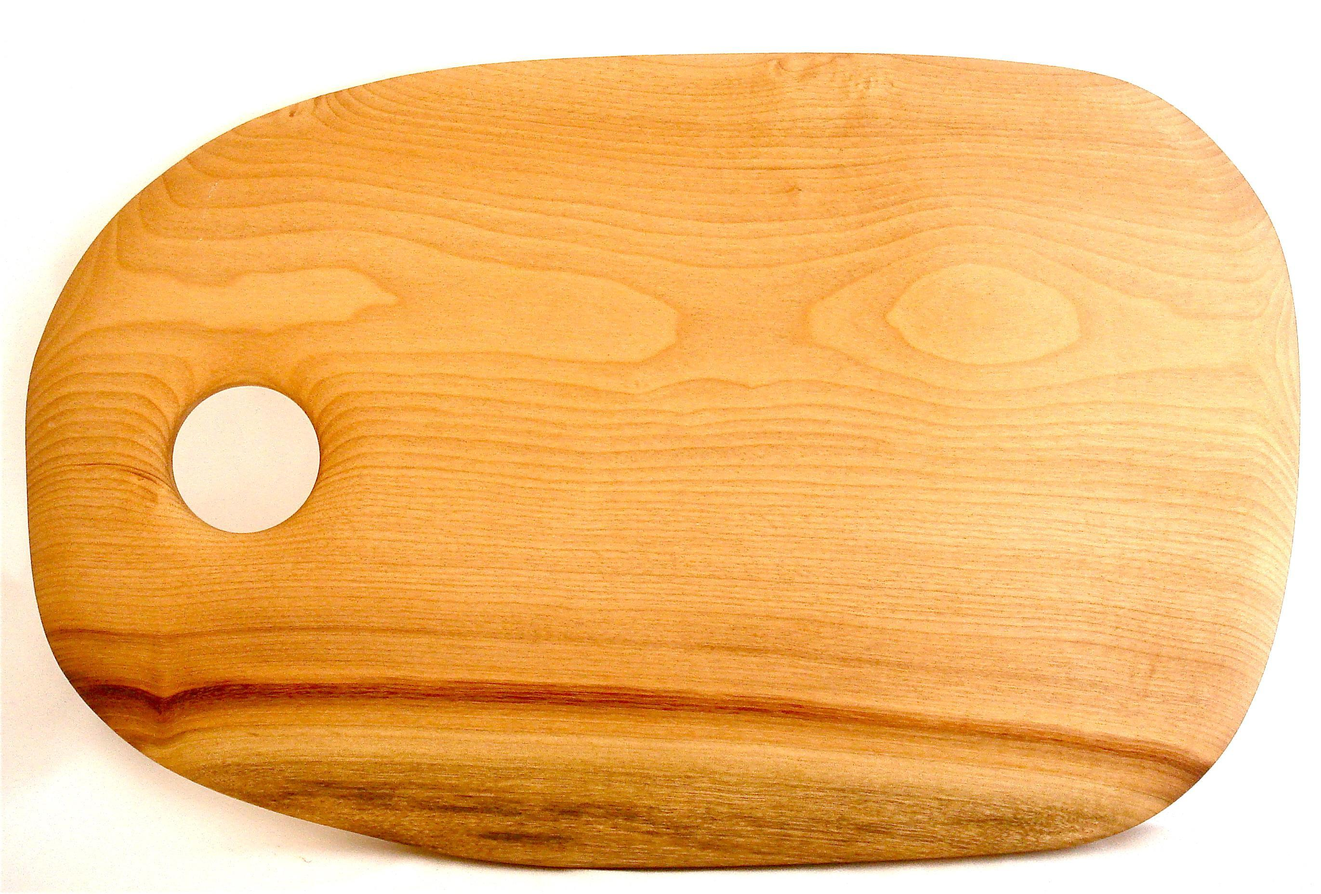gloved_hand: (17, 39, 1314, 883)
